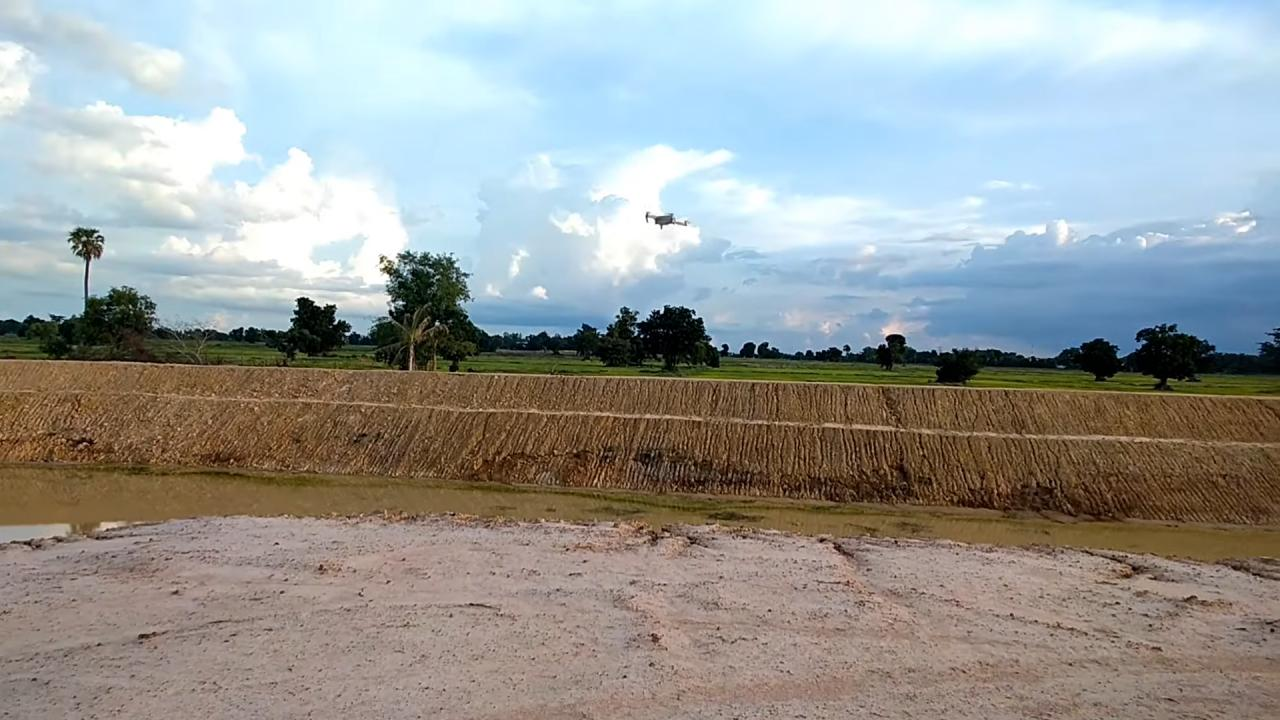Drone: (636, 203, 695, 237)
